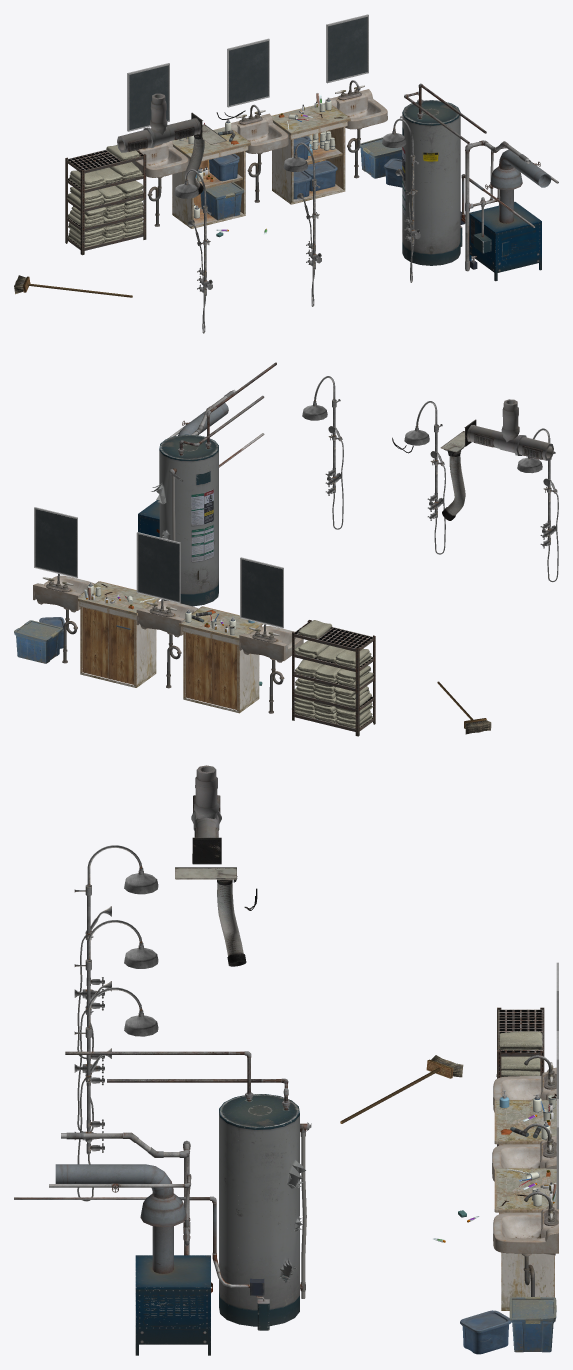
The model's file is sm301_01_403room_01.fbx.
3 views of the same model, one above another, from view 1: azimuth 30°, elevation 25°; view 2: azimuth 150°, elevation 25°; view 3: azimuth 270°, elevation 25° (orthographic). The views are drawn at different scales.
Parts seen in each view (by area): view 1: 0127_sm22065Boiler02A00ms_1_Group_0_Sub_1__sm22_023_Boi_d06b, 0128_sm30211Mirror01A00ms_1_Group_0_Sub_1__sm30_211_Mir_0ba9, 0063_sm30105KitchenStorage01B00ms_1_Group_0_Sub_1__sm30_2963, 0045_sm30089WashStand01A00ms_1_Group_0_Sub_1__sm30_089__a9ec, 0031_sm39049SteelRackSet01A00ms_1_Group_0_Sub_1__sm36_0_c9d2, 0048_sm31030ShowerBath01A00ms_1_Group_0_Sub_1__sm31_030_9f4f, 0047_sm30091Steelrack01A00ms_1_Group_0_Sub_1__sm30_091__18cd, 0043_sm39048WashBasin02A00ms_1_Group_2_Sub_1__sm30_074__54ee, 0042_sm30074PlasticBox01A00ms_1_Group_0_Sub_1__sm30_074_9cb3, 0062_sm21003AirDuct01A00ms_1_Group_12_Sub_1__sm21_003_A_bc76, 0040_sm39047WashBasin01A00ms_1_Group_19_Sub_1__sm30_073_7d17, 0041_sm39048WashBasin02A00ms_1_Group_13_Sub_1__sm30_073_4b08 (+6 smaller); view 2: 0063_sm30105KitchenStorage01B00ms_1_Group_0_Sub_1__sm30_2963, 0127_sm22065Boiler02A00ms_1_Group_0_Sub_1__sm22_023_Boi_d06b, 0128_sm30211Mirror01A00ms_1_Group_0_Sub_1__sm30_211_Mir_0ba9, 0045_sm30089WashStand01A00ms_1_Group_0_Sub_1__sm30_089__a9ec, 0031_sm39049SteelRackSet01A00ms_1_Group_0_Sub_1__sm36_0_c9d2, 0048_sm31030ShowerBath01A00ms_1_Group_0_Sub_1__sm31_030_9f4f, 0047_sm30091Steelrack01A00ms_1_Group_0_Sub_1__sm30_091__18cd, 0042_sm30074PlasticBox01A00ms_1_Group_0_Sub_1__sm30_074_9cb3, 0062_sm21003AirDuct01A00ms_1_Group_12_Sub_1__sm21_003_A_bc76, 0050_sm21003AirDuct01A00ms_1_Group_0_Sub_1__sm21_003_Ai_06a0, 0052_sm21003AirDuct01A00ms_1_Group_2_Sub_1__sm21_003_Ai_edf7, 0096_sm20006Brush01A00ms_1_Group_0_Sub_1__sm20_006_Brus_7c73; view 3: 0127_sm22065Boiler02A00ms_1_Group_0_Sub_1__sm22_023_Boi_d06b, 0045_sm30089WashStand01A00ms_1_Group_0_Sub_1__sm30_089__a9ec, 0063_sm30105KitchenStorage01B00ms_1_Group_0_Sub_1__sm30_2963, 0048_sm31030ShowerBath01A00ms_1_Group_0_Sub_1__sm31_030_9f4f, 0042_sm30074PlasticBox01A00ms_1_Group_0_Sub_1__sm30_074_9cb3, 0047_sm30091Steelrack01A00ms_1_Group_0_Sub_1__sm30_091__18cd, 0031_sm39049SteelRackSet01A00ms_1_Group_0_Sub_1__sm36_0_c9d2, 0050_sm21003AirDuct01A00ms_1_Group_0_Sub_1__sm21_003_Ai_06a0, 0052_sm21003AirDuct01A00ms_1_Group_2_Sub_1__sm21_003_Ai_edf7, 0036_sm30073PlasticBox01A00ms_1_Group_0_Sub_1__sm30_073_0ee7, 0096_sm20006Brush01A00ms_1_Group_0_Sub_1__sm20_006_Brus_7c73, 0061_sm21003AirDuct01A00ms_1_Group_11_Sub_1__sm21_003_A_8c04 (+3 smaller).
Boxes of the visible parts, <box> form: 0127_sm22065Boiler02A00ms_1_Group_0_Sub_1__sm22_023_Boi_d06b: <box>400,83,558,281</box>; 0128_sm30211Mirror01A00ms_1_Group_0_Sub_1__sm30_211_Mir_0ba9: <box>127,14,368,131</box>; 0063_sm30105KitchenStorage01B00ms_1_Group_0_Sub_1__sm30_2963: <box>172,103,350,228</box>; 0045_sm30089WashStand01A00ms_1_Group_0_Sub_1__sm30_089__a9ec: <box>132,80,387,226</box>; 0031_sm39049SteelRackSet01A00ms_1_Group_0_Sub_1__sm36_0_c9d2: <box>67,145,143,247</box>; 0048_sm31030ShowerBath01A00ms_1_Group_0_Sub_1__sm31_030_9f4f: <box>174,118,420,333</box>; 0047_sm30091Steelrack01A00ms_1_Group_0_Sub_1__sm30_091__18cd: <box>65,149,146,255</box>; 0043_sm39048WashBasin02A00ms_1_Group_2_Sub_1__sm30_074__54ee: <box>200,182,243,220</box>; 0042_sm30074PlasticBox01A00ms_1_Group_0_Sub_1__sm30_074_9cb3: <box>360,137,402,178</box>; 0062_sm21003AirDuct01A00ms_1_Group_12_Sub_1__sm21_003_A_bc76: <box>117,118,201,152</box>; 0040_sm39047WashBasin01A00ms_1_Group_19_Sub_1__sm30_073_7d17: <box>304,160,337,191</box>; 0041_sm39048WashBasin02A00ms_1_Group_13_Sub_1__sm30_073_4b08: <box>209,153,239,181</box>; 0063_sm30105KitchenStorage01B00ms_1_Group_0_Sub_1__sm30_2963: <box>78,581,263,713</box>; 0127_sm22065Boiler02A00ms_1_Group_0_Sub_1__sm22_023_Boi_d06b: <box>138,362,276,606</box>; 0128_sm30211Mirror01A00ms_1_Group_0_Sub_1__sm30_211_Mir_0ba9: <box>34,507,283,628</box>; 0045_sm30089WashStand01A00ms_1_Group_0_Sub_1__sm30_089__a9ec: <box>33,574,303,713</box>; 0031_sm39049SteelRackSet01A00ms_1_Group_0_Sub_1__sm36_0_c9d2: <box>294,620,373,728</box>; 0048_sm31030ShowerBath01A00ms_1_Group_0_Sub_1__sm31_030_9f4f: <box>302,376,558,582</box>; 0047_sm30091Steelrack01A00ms_1_Group_0_Sub_1__sm30_091__18cd: <box>292,620,375,736</box>; 0042_sm30074PlasticBox01A00ms_1_Group_0_Sub_1__sm30_074_9cb3: <box>14,620,62,663</box>; 0062_sm21003AirDuct01A00ms_1_Group_12_Sub_1__sm21_003_A_bc76: <box>466,425,553,460</box>; 0050_sm21003AirDuct01A00ms_1_Group_0_Sub_1__sm21_003_Ai_06a0: <box>442,450,465,520</box>; 0052_sm21003AirDuct01A00ms_1_Group_2_Sub_1__sm21_003_Ai_edf7: <box>501,399,519,442</box>; 0096_sm20006Brush01A00ms_1_Group_0_Sub_1__sm20_006_Brus_7c73: <box>437,681,491,734</box>; 0127_sm22065Boiler02A00ms_1_Group_0_Sub_1__sm22_023_Boi_d06b: <box>14,1051,311,1355</box>; 0045_sm30089WashStand01A00ms_1_Group_0_Sub_1__sm30_089__a9ec: <box>492,1055,558,1296</box>; 0063_sm30105KitchenStorage01B00ms_1_Group_0_Sub_1__sm30_2963: <box>494,1100,556,1310</box>; 0048_sm31030ShowerBath01A00ms_1_Group_0_Sub_1__sm31_030_9f4f: <box>74,845,158,1201</box>; 0042_sm30074PlasticBox01A00ms_1_Group_0_Sub_1__sm30_074_9cb3: <box>509,1297,556,1352</box>; 0047_sm30091Steelrack01A00ms_1_Group_0_Sub_1__sm30_091__18cd: <box>497,1007,544,1146</box>; 0031_sm39049SteelRackSet01A00ms_1_Group_0_Sub_1__sm36_0_c9d2: <box>496,1031,542,1076</box>; 0050_sm21003AirDuct01A00ms_1_Group_0_Sub_1__sm21_003_Ai_06a0: <box>217,879,246,966</box>; 0052_sm21003AirDuct01A00ms_1_Group_2_Sub_1__sm21_003_Ai_edf7: <box>194,765,218,819</box>; 0036_sm30073PlasticBox01A00ms_1_Group_0_Sub_1__sm30_073_0ee7: <box>462,1323,510,1354</box>; 0096_sm20006Brush01A00ms_1_Group_0_Sub_1__sm20_006_Brus_7c73: <box>340,1055,463,1123</box>; 0061_sm21003AirDuct01A00ms_1_Group_11_Sub_1__sm21_003_A_8c04: <box>192,837,221,864</box>.
Bounding box in the file's own units: 6.34 × 3.5 × 5.06.
